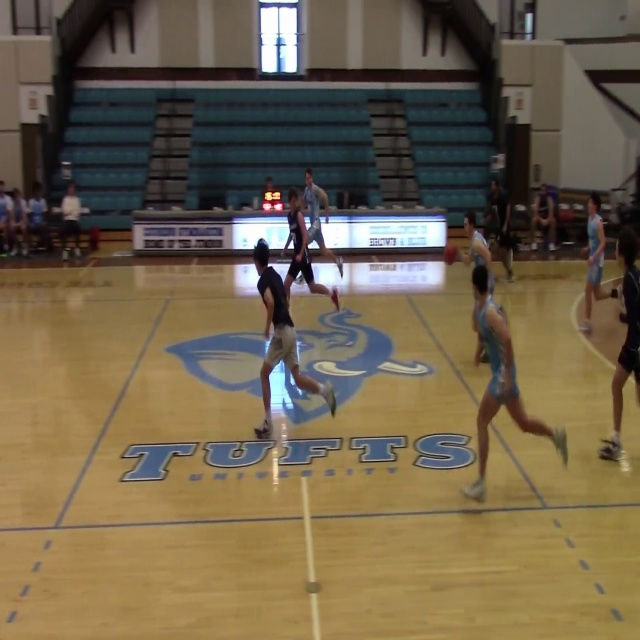Basketball: (443, 245, 457, 265), (580, 246, 590, 258)
